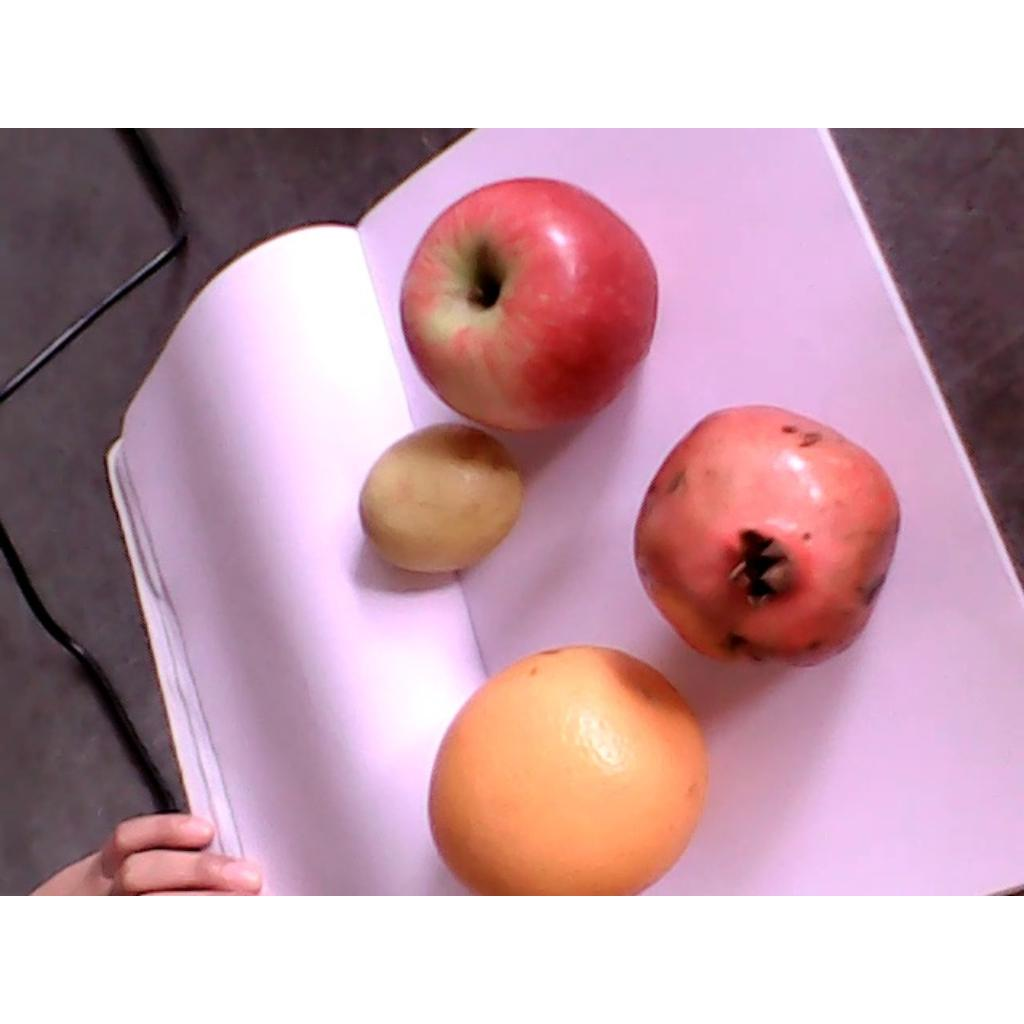apple: (398, 177, 662, 434)
lemon: (357, 424, 523, 574)
orange: (427, 644, 710, 894)
pomegranate: (633, 403, 901, 665)
